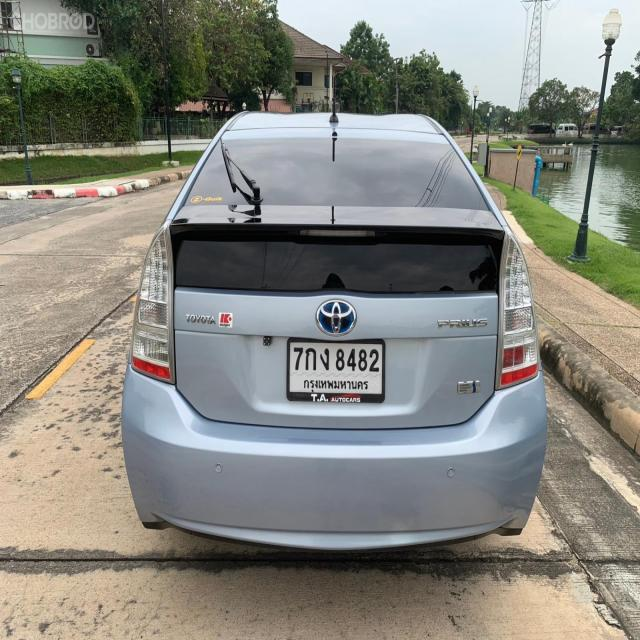license_plate: (286, 335, 387, 406)
